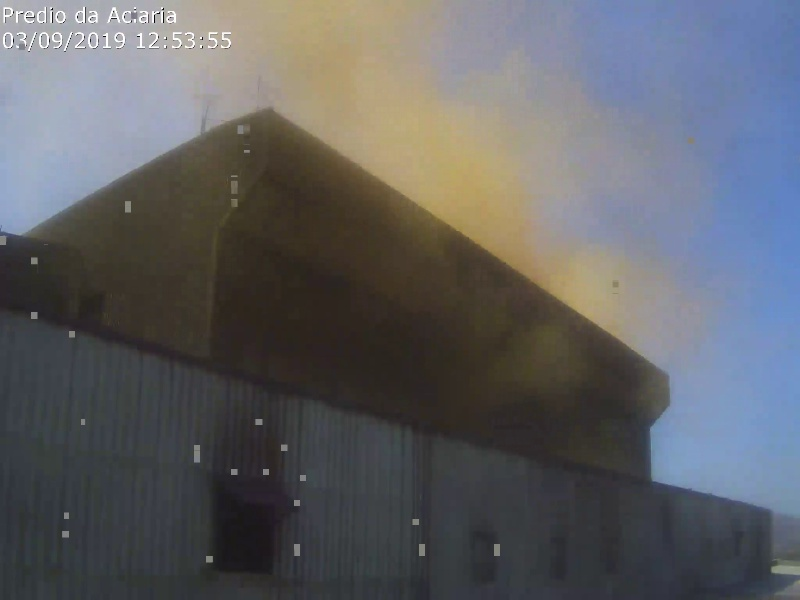Pessimo: (170, 4, 688, 463)
